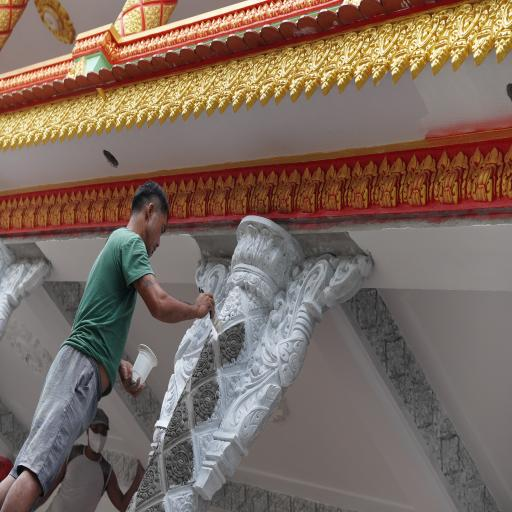hoa: (128, 453, 166, 507), (161, 441, 198, 489), (190, 378, 224, 430), (216, 318, 248, 370), (189, 335, 217, 389), (162, 396, 191, 446), (220, 283, 242, 322)
la: (406, 15, 446, 78), (446, 6, 482, 68), (370, 22, 406, 84), (269, 49, 306, 102), (430, 150, 465, 204), (304, 41, 338, 96), (372, 154, 404, 212), (336, 33, 368, 91), (466, 150, 500, 200), (401, 154, 433, 207), (242, 51, 270, 111), (190, 64, 220, 114), (345, 161, 374, 209), (218, 63, 247, 111), (318, 164, 348, 210), (491, 0, 512, 65), (168, 71, 194, 122), (249, 170, 273, 216), (227, 173, 251, 218), (296, 166, 320, 210), (272, 170, 297, 211), (208, 175, 229, 220), (191, 173, 208, 218), (499, 142, 512, 199), (34, 192, 52, 233), (105, 185, 124, 223), (50, 190, 68, 230), (172, 178, 190, 218), (88, 189, 106, 227), (21, 194, 39, 230), (60, 191, 78, 226), (75, 189, 91, 228), (11, 195, 26, 231), (122, 185, 135, 225), (0, 196, 14, 231)
ran: (194, 226, 377, 512)
